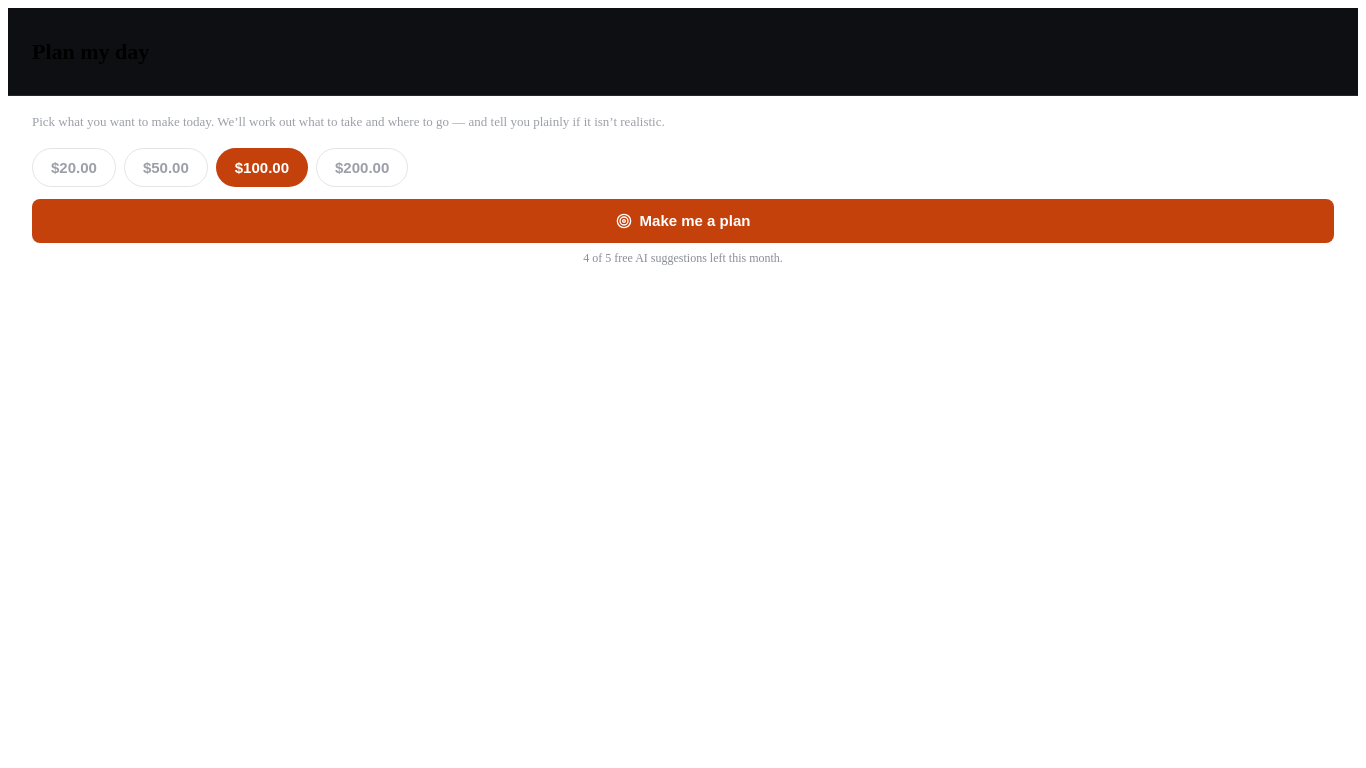
Test: E-9 Income Coach (demo mode) › produces a plan in the brief’s shape: what to take, where to go, why
# $50 is under the demo fixture's ~$51.87 projection, so this plan clears its goal.
Click the radio button labelled "$50.00". click: [166, 168]
box: top-left (124, 148), bottom-right (208, 187)
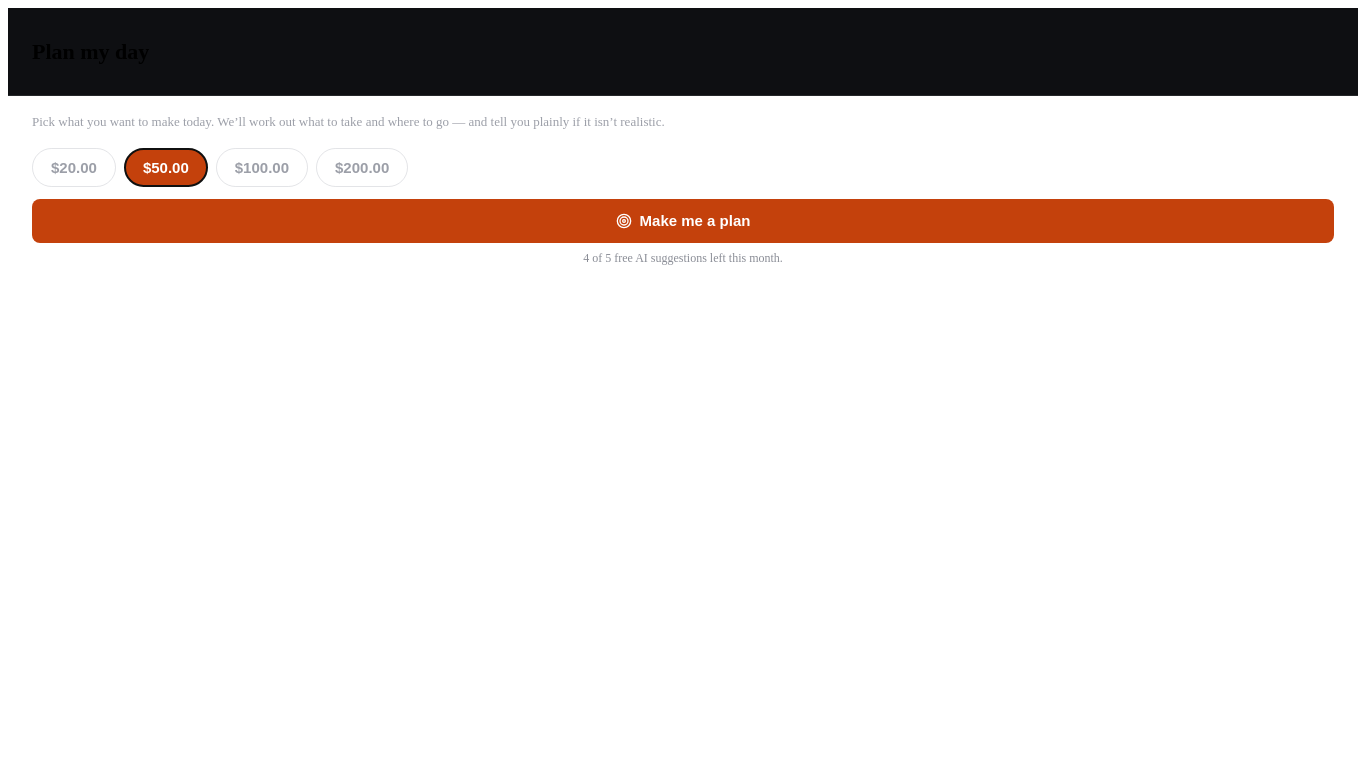
Click the button "Make me a plan". click: [683, 221]
box: top-left (32, 199), bottom-right (1334, 243)
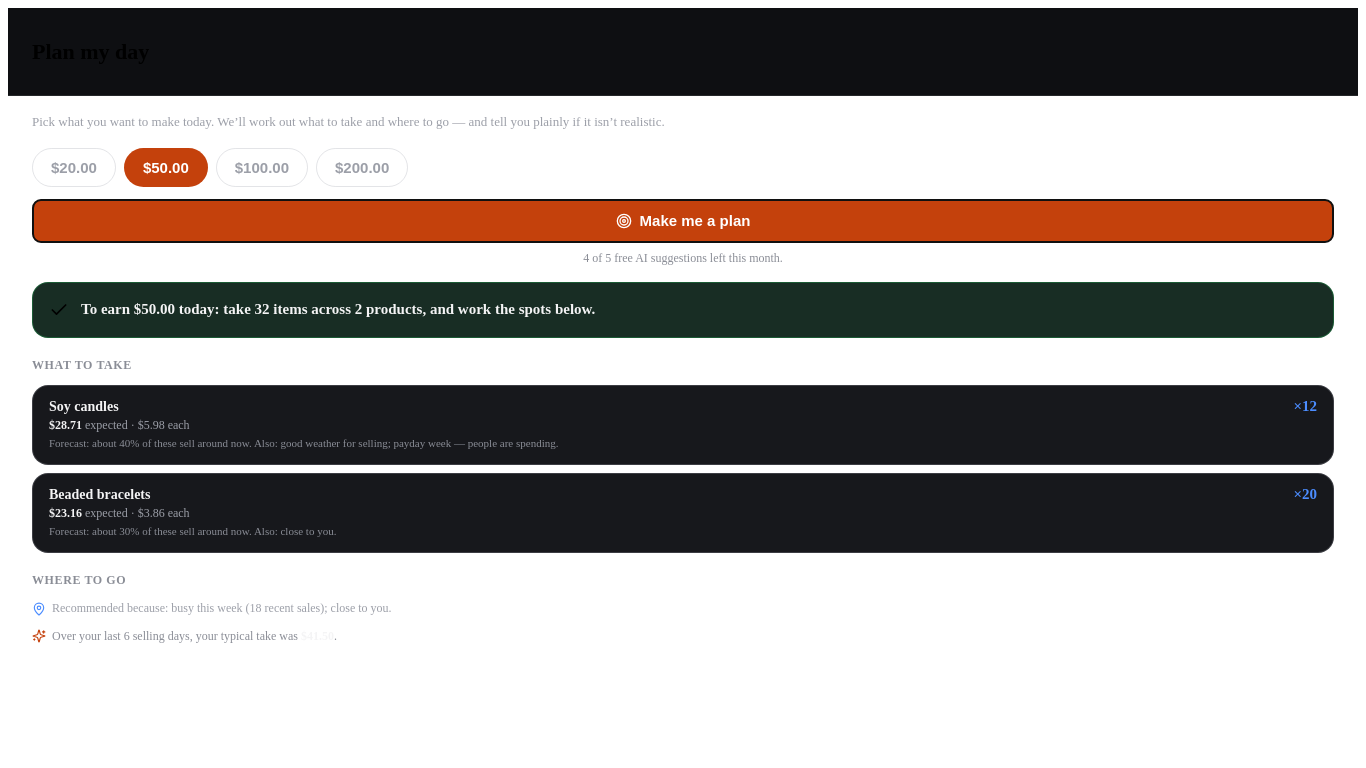
Result: the heading "What to take" is shown at top-left (32, 358), bottom-right (132, 372)
Result: the text "Soy candles" is shown at top-left (49, 399), bottom-right (119, 415)
Result: the text "×12" is shown at top-left (1293, 398), bottom-right (1317, 415)
